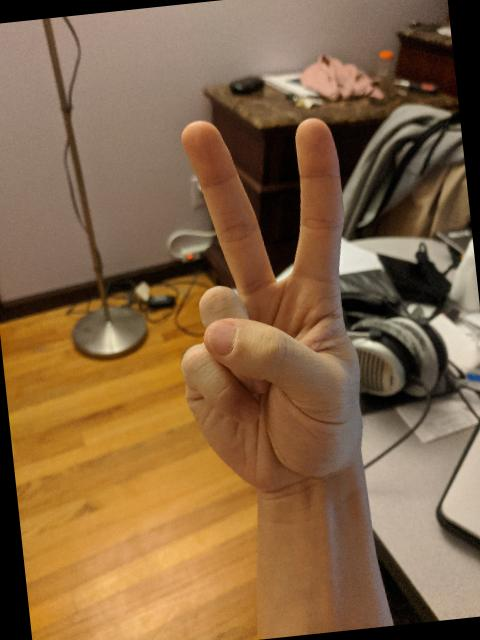V: (148, 101, 382, 507)
